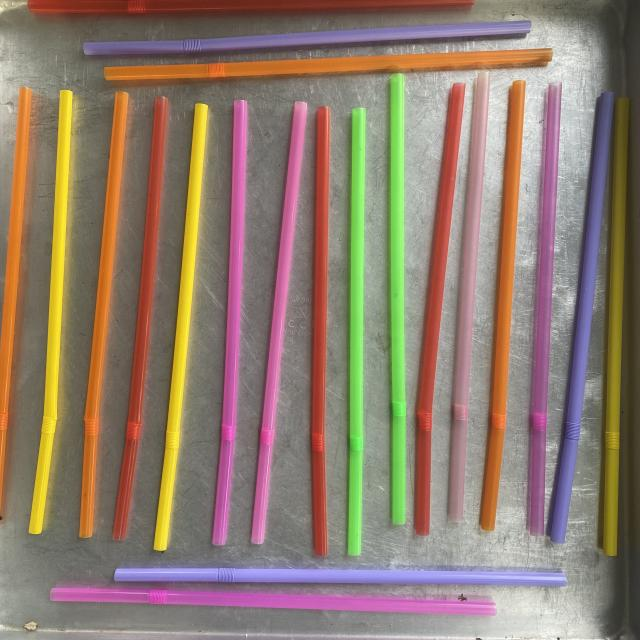plastik: (551, 93, 614, 543), (112, 97, 167, 540), (252, 102, 307, 544), (154, 103, 207, 551), (415, 83, 465, 535), (79, 91, 128, 538), (479, 81, 525, 531), (29, 90, 72, 534), (449, 71, 490, 522), (84, 20, 532, 55), (213, 99, 248, 546), (529, 83, 561, 536), (104, 49, 552, 81), (0, 87, 32, 519), (51, 587, 497, 616), (603, 98, 630, 555), (311, 106, 331, 557), (115, 567, 567, 586), (348, 107, 366, 555), (390, 74, 406, 524), (28, 0, 474, 14)
